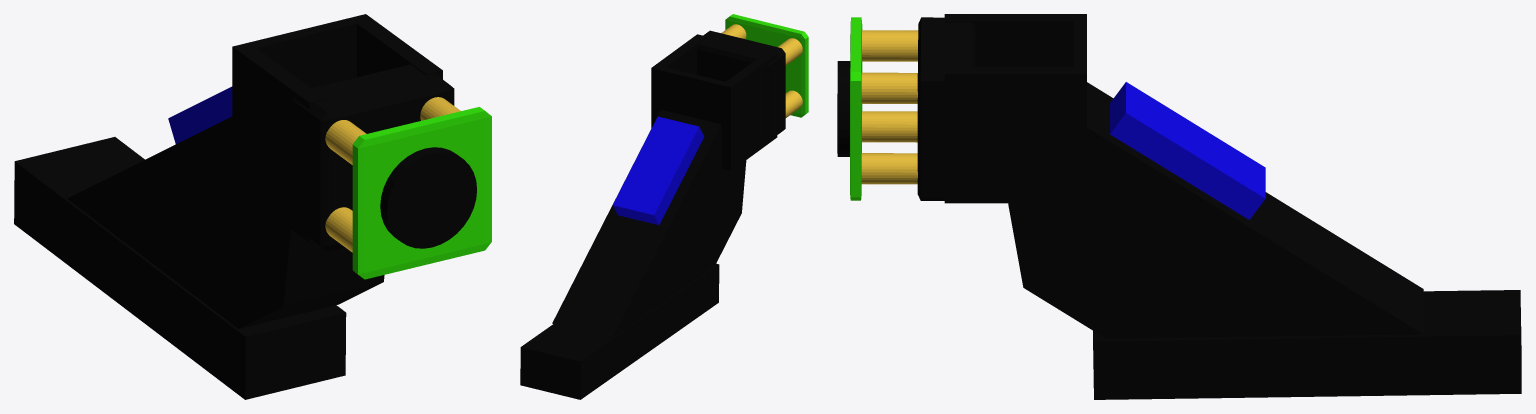
File: fully_combined_camera.fbx
The picture shows the model from 3 angles, left to right: view 1: azimuth 30°, elevation 25°; view 2: azimuth 150°, elevation 25°; view 3: azimuth 270°, elevation 25°; orthographic projection. The views are drawn at different scales.
Parts seen in each view (by area): view 1: Cube.001, Cube.003, Cube, Cube.004, Cube.005, 圓柱體.001, Cube.002, 圓柱體, 圓柱體.002, 圓柱體.003; view 2: Cube.001, Cube.003, Cube, Cube.002, Cube.005, Cube.004, 圓柱體, 圓柱體.002; view 3: Cube.001, Cube.003, Cube, Cube.002, Cube.005, Cube.004, 圓柱體.004, 圓柱體.003, 圓柱體, 圓柱體.002, 圓柱體.001.
Boxes of the visible parts, box(x1,y1,x2,y2) form: Cube.001: box(67, 116, 384, 328); Cube.003: box(14, 137, 346, 399); Cube: box(232, 14, 442, 242); Cube.004: box(352, 107, 491, 279); Cube.005: box(292, 64, 454, 251); 圓柱體.001: box(380, 147, 476, 248); Cube.002: box(168, 86, 232, 143); 圓柱體: box(325, 120, 366, 164); 圓柱體.002: box(325, 207, 352, 252); 圓柱體.003: box(420, 97, 460, 120); Cube.001: box(552, 109, 746, 337); Cube.003: box(520, 263, 719, 399); Cube: box(651, 34, 777, 170); Cube.002: box(613, 116, 704, 224); Cube.005: box(697, 30, 785, 141); Cube.004: box(725, 14, 808, 117); 圓柱體: box(777, 38, 802, 65); 圓柱體.002: box(785, 90, 802, 117); Cube.001: box(1008, 82, 1423, 338); Cube.003: box(1093, 290, 1521, 399); Cube: box(944, 14, 1086, 203); Cube.002: box(1110, 82, 1265, 219); Cube.005: box(917, 17, 976, 200); Cube.004: box(850, 17, 862, 200); 圓柱體.004: box(861, 153, 917, 184); 圓柱體.003: box(861, 72, 917, 103); 圓柱體: box(862, 30, 918, 61); 圓柱體.002: box(862, 111, 917, 142); 圓柱體.001: box(837, 61, 850, 156).
Bounding box in the file's own units: 203 × 516 × 960.
